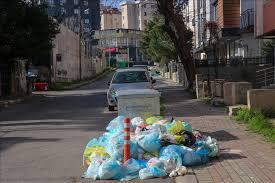Container: (117, 92, 163, 117)
Garbage: (132, 118, 221, 179), (82, 115, 124, 181)
